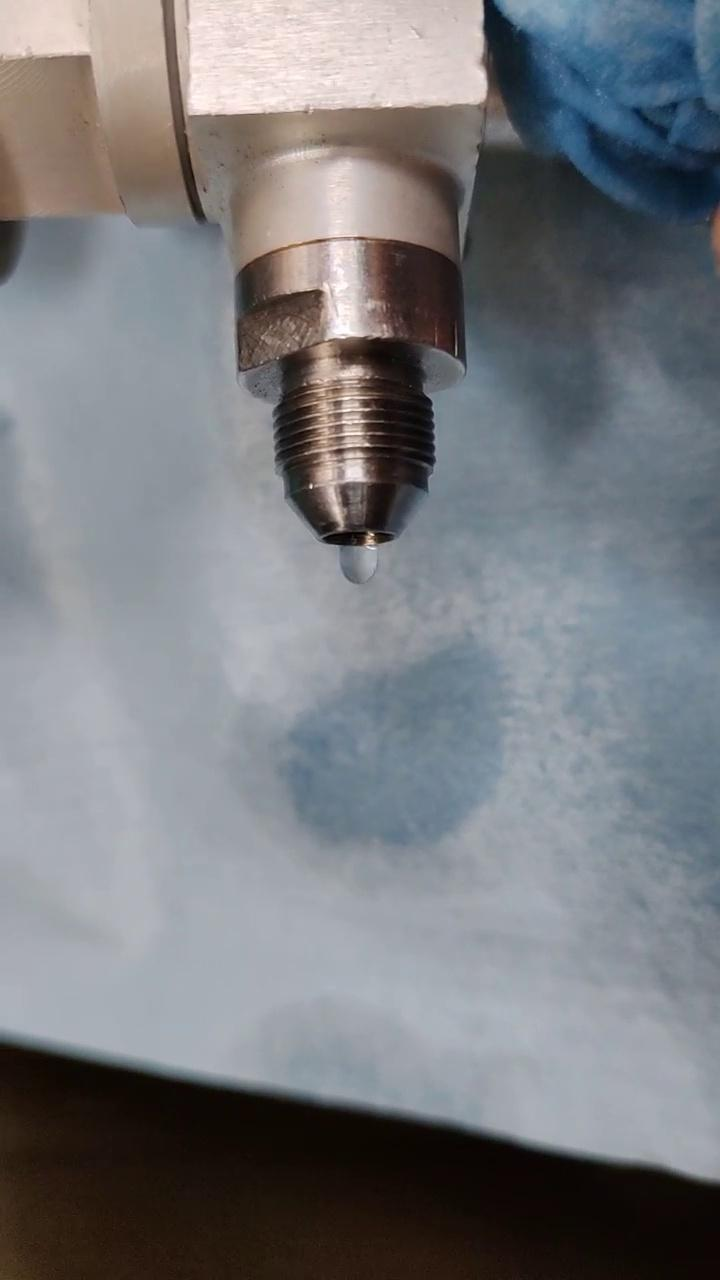water drop: (336, 536, 377, 586)
